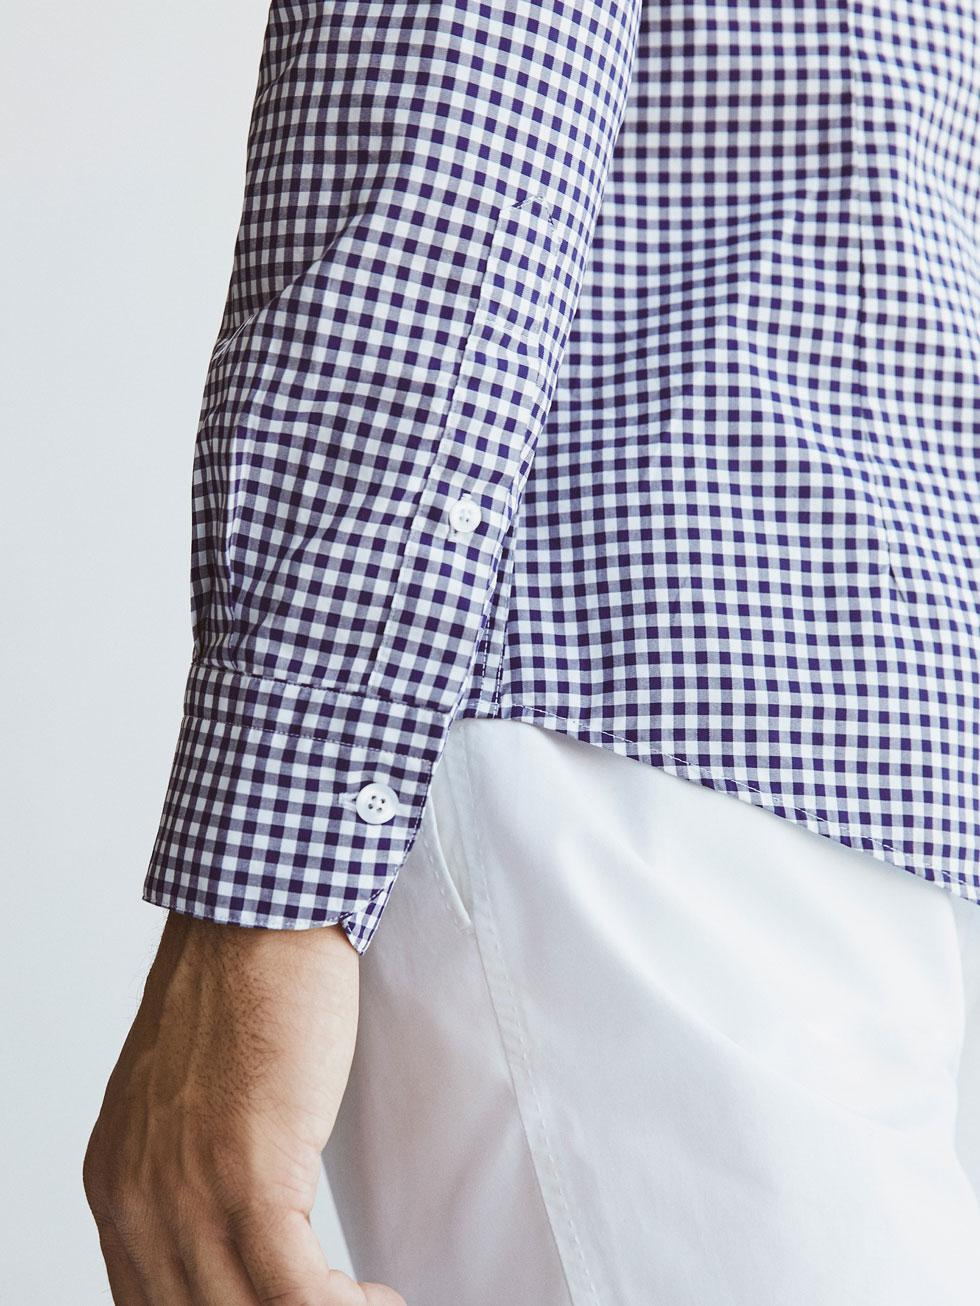teeshirt: (111, 30, 980, 981)
